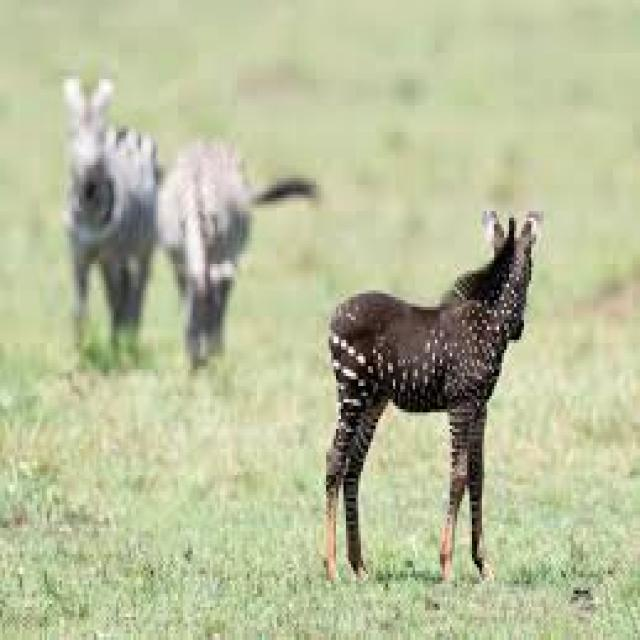zebra: (326, 211, 539, 574)
